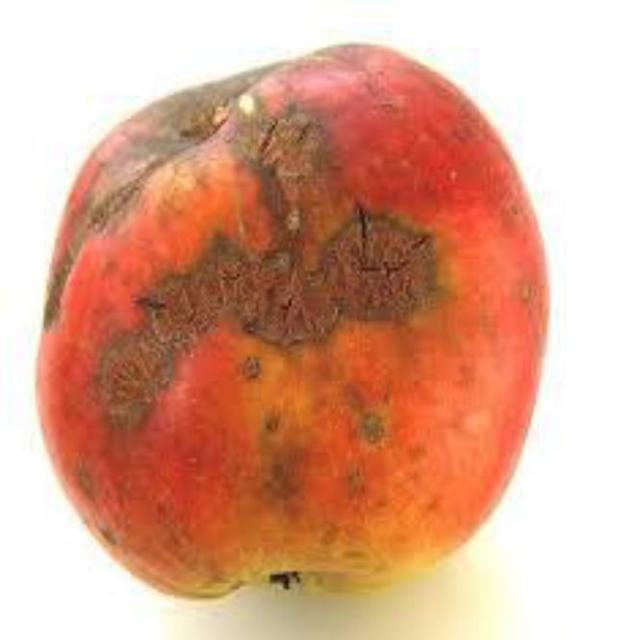Rotten Apple: (66, 52, 558, 584)
